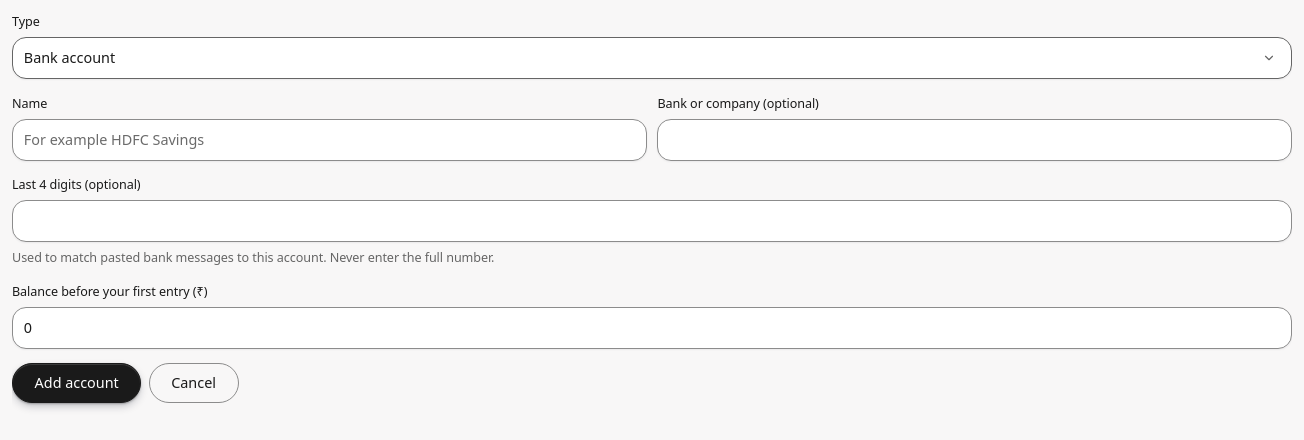
Test: AccountForm without a bank account › explains that a debit card needs a bank first and offers to add one, instead of a dead-end error
Select "Debit card" in the dropdown labelled "Type" at [652, 58], box [12, 37, 1292, 79]
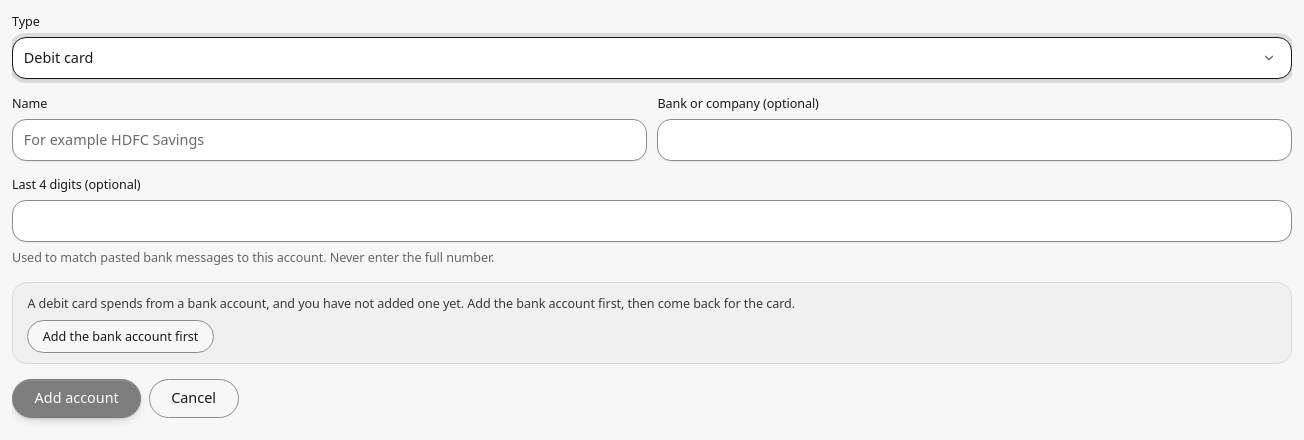
Expected: the text "spends from a bank account, and you have not added one yet" is shown, [27, 294, 795, 312]
Expected: the button "Add account" is disabled, [12, 379, 141, 418]
Click the button "Add the bank account first".
click(121, 336)  # box [27, 320, 214, 353]
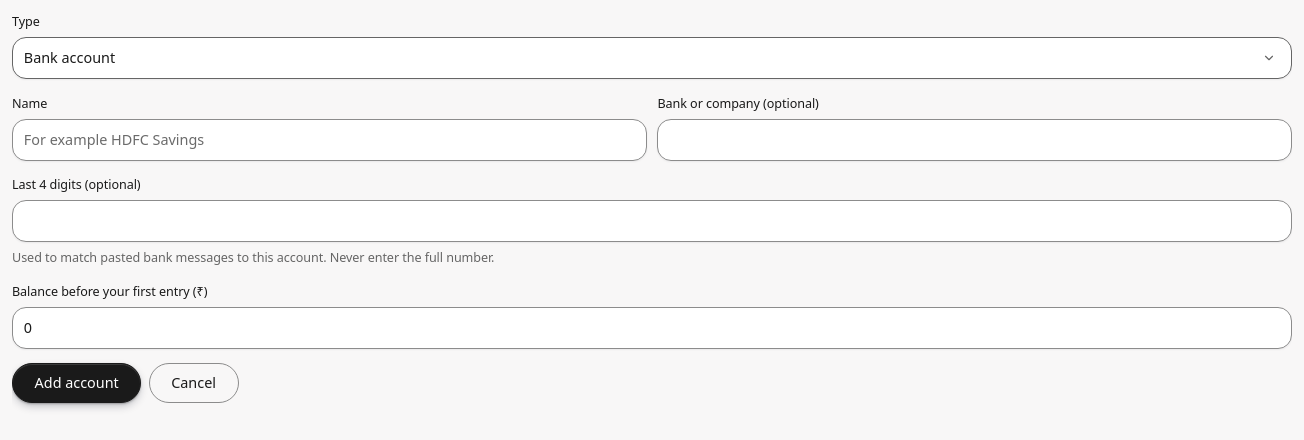
Expected: the button "Add account" is enabled, [12, 363, 141, 403]
